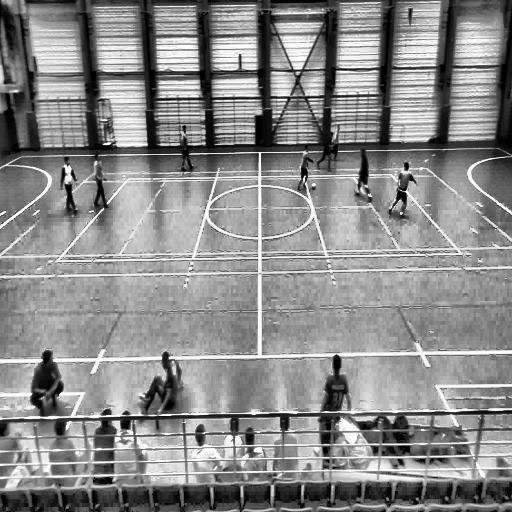ball: (311, 180, 316, 190)
player: (138, 351, 175, 428), (29, 349, 65, 412), (387, 160, 418, 218), (60, 155, 80, 214), (91, 151, 111, 208), (353, 146, 372, 200), (315, 127, 337, 171), (179, 122, 196, 172), (297, 144, 313, 191), (330, 121, 342, 162)
